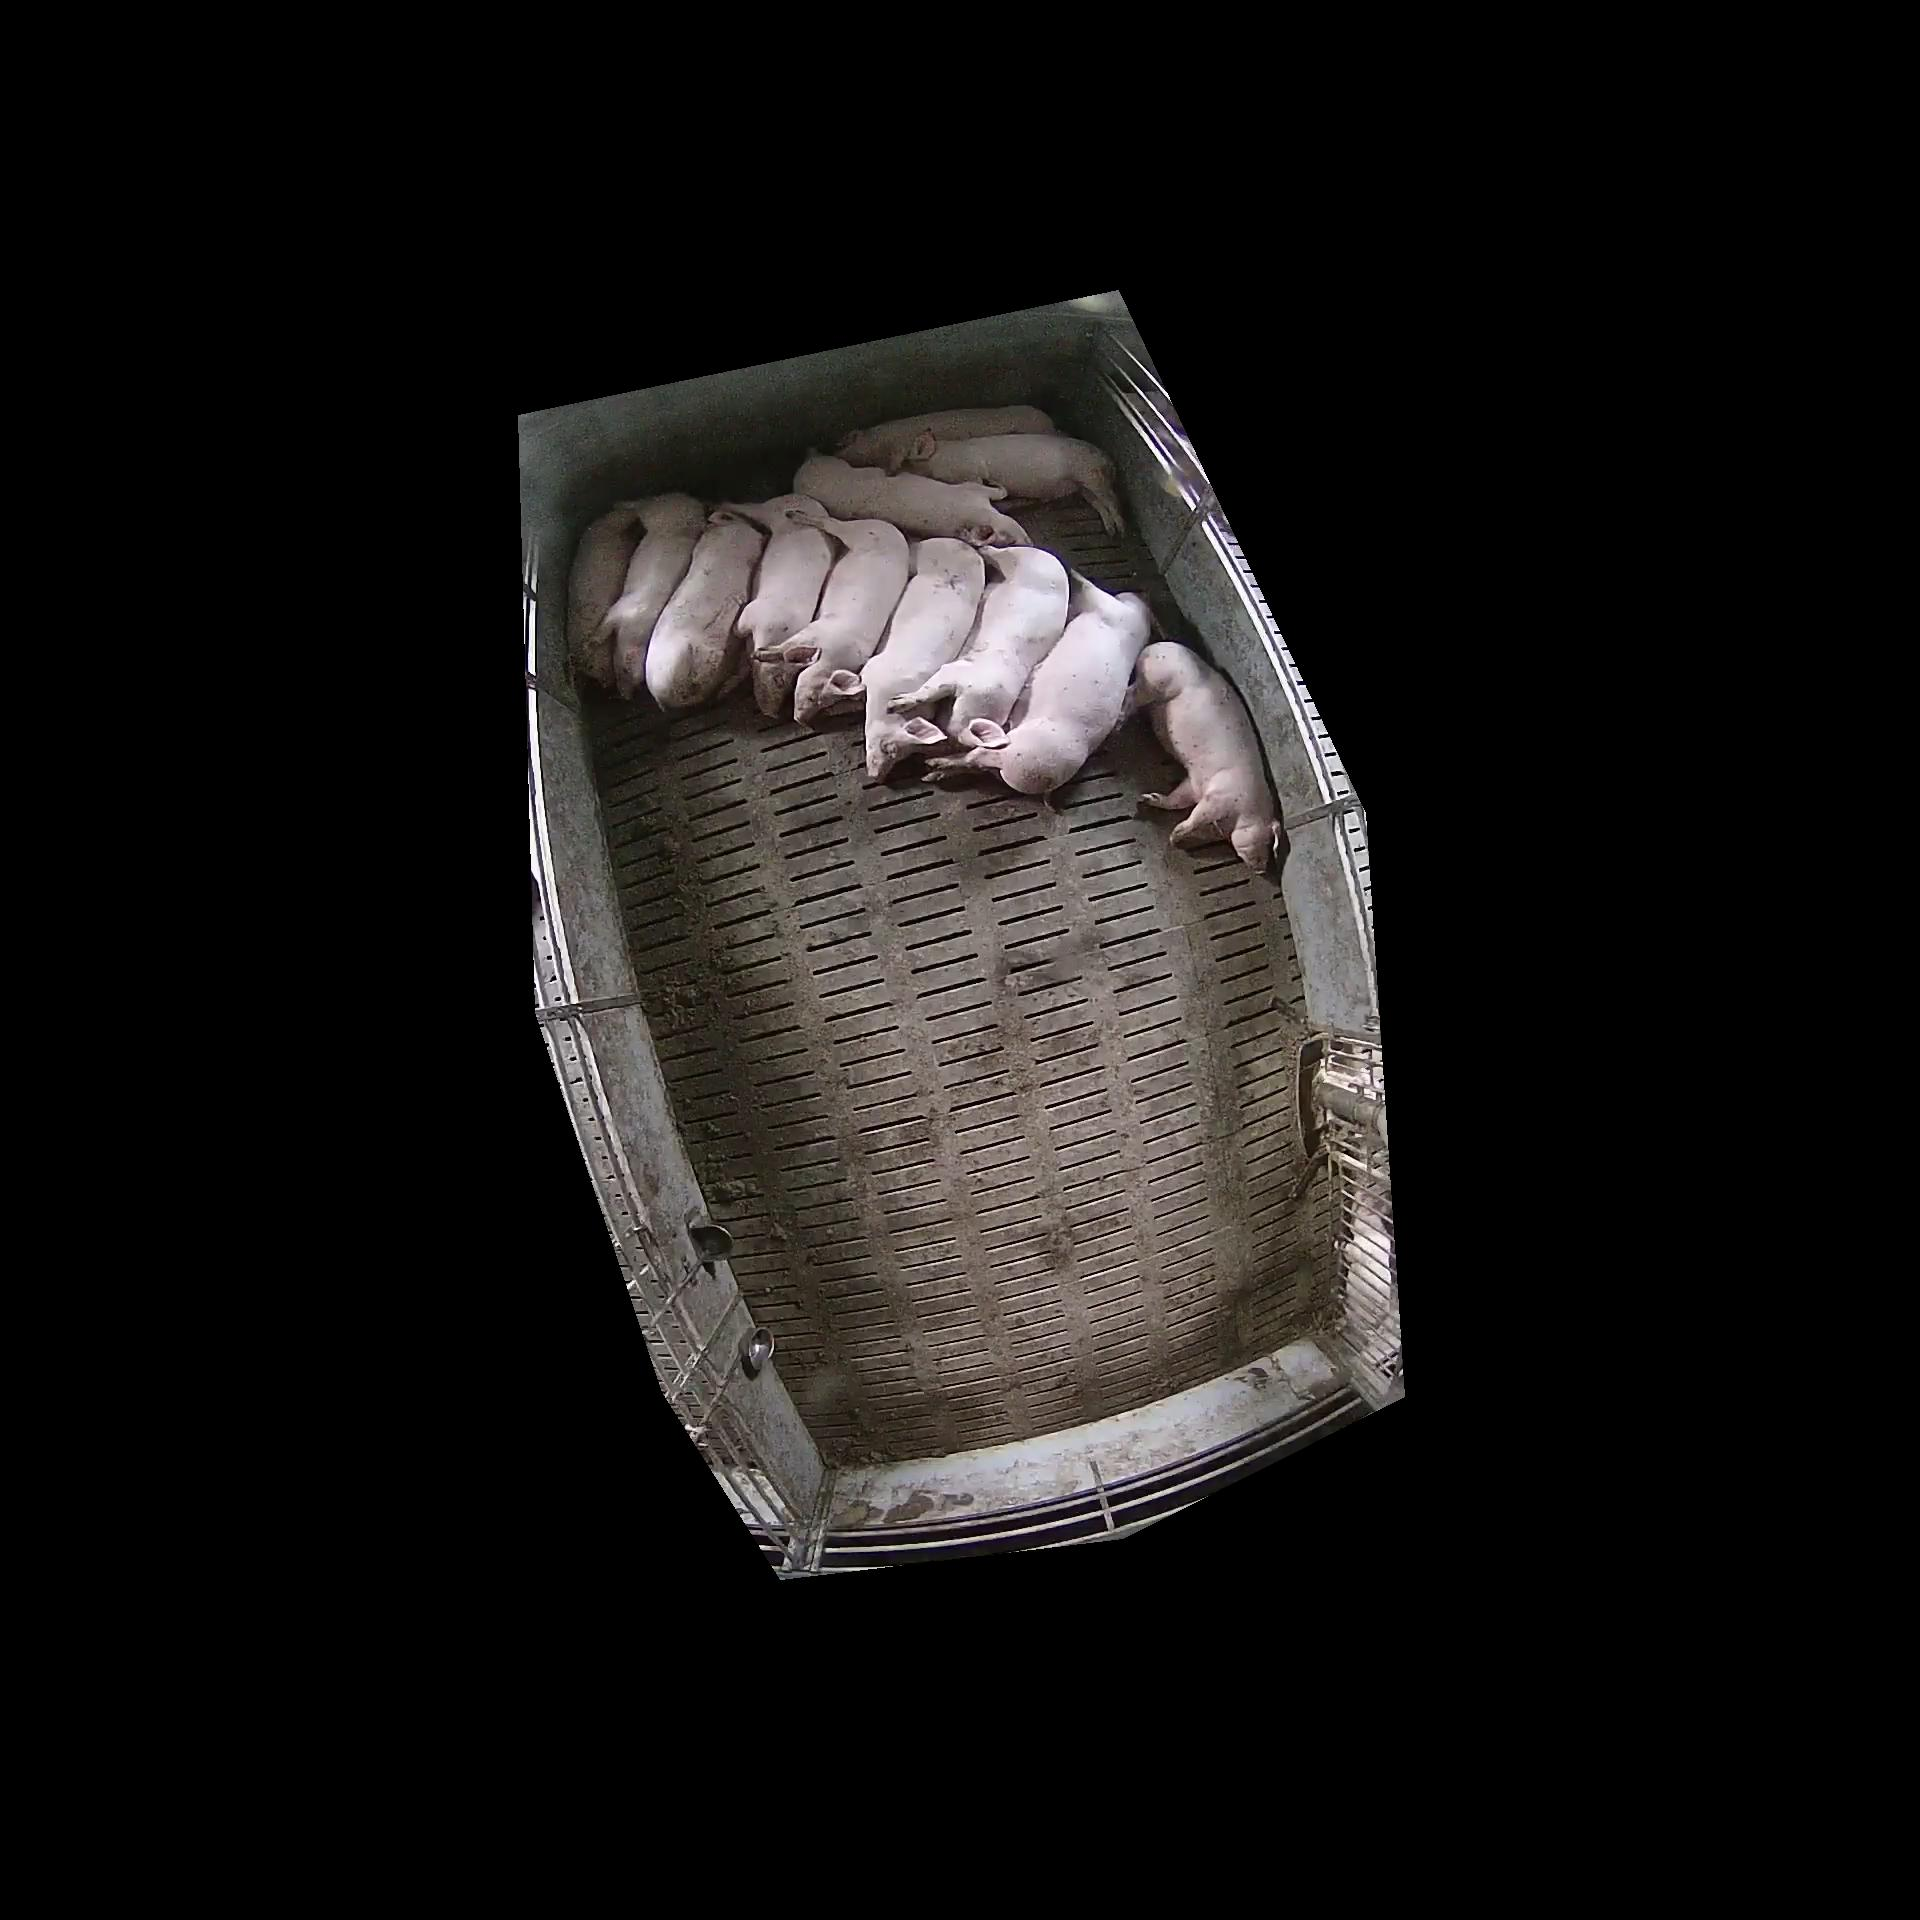pig: (921, 570, 1150, 795), (888, 542, 1071, 745), (1125, 642, 1280, 869), (751, 512, 909, 721), (858, 535, 985, 779), (719, 492, 835, 719), (644, 512, 761, 709), (909, 431, 1129, 536), (594, 492, 707, 698), (793, 450, 1034, 545), (568, 503, 638, 684), (840, 404, 1055, 461)
